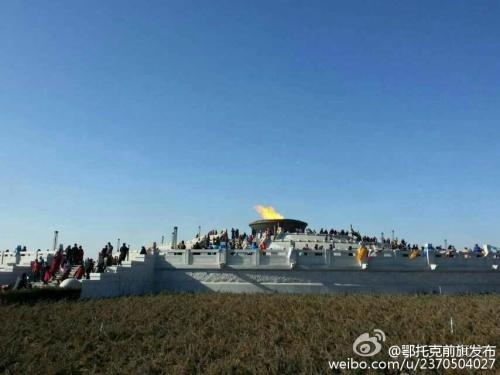fire: (252, 202, 284, 220)
